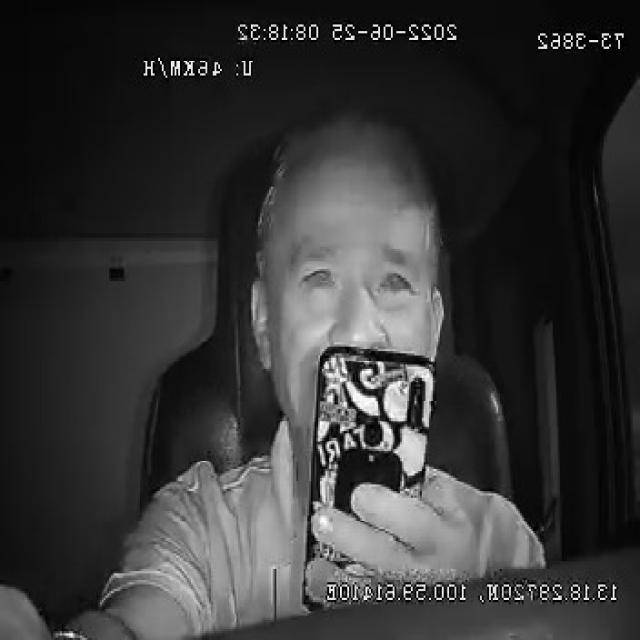phone: (304, 346, 436, 584)
